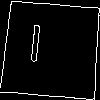I: (26, 24, 45, 72)
